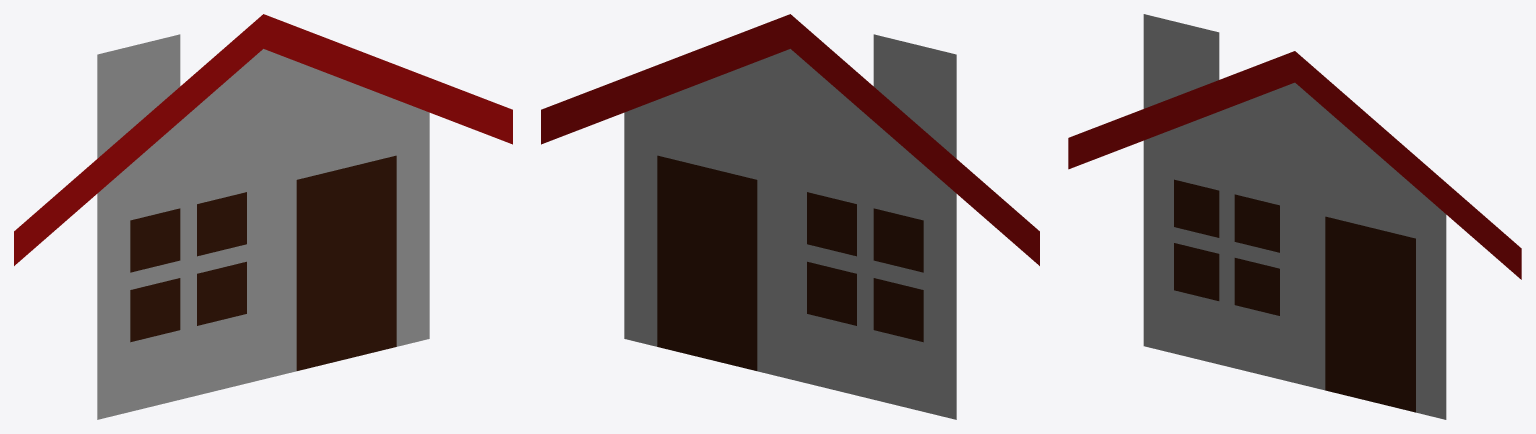
The model's file is house.obj.
The picture shows the model from 3 angles, left to right: view 1: azimuth 30°, elevation 25°; view 2: azimuth 150°, elevation 25°; view 3: azimuth 330°, elevation 25°; orthographic projection. The views are drawn at different scales.
Visible parts, largest first — view 1: Plane; view 2: Plane; view 3: Plane.
Boxes of the visible parts, x1,y1,x2,y2 form: Plane: (14, 14, 512, 419); Plane: (541, 14, 1039, 419); Plane: (1068, 14, 1521, 419).
Size of the model in its own units: 3 by 2.1 by 0.
